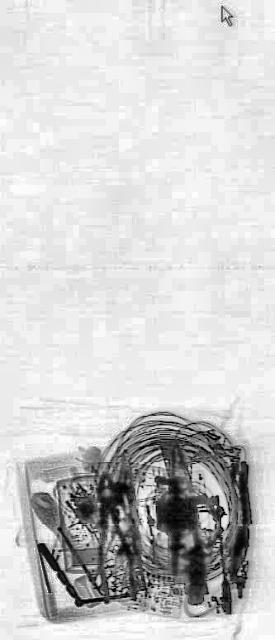Pliers: (88, 461, 136, 615)
